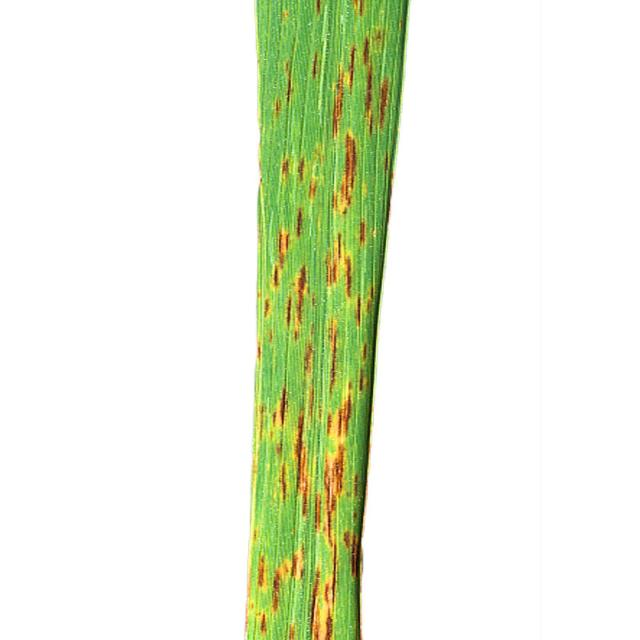Narrow brown: (226, 0, 452, 640)
